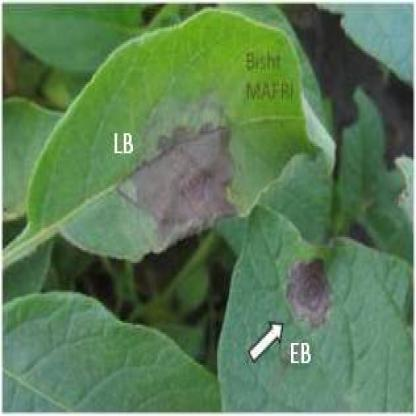Potato leaf late blight: (24, 6, 312, 264), (214, 198, 414, 400)
